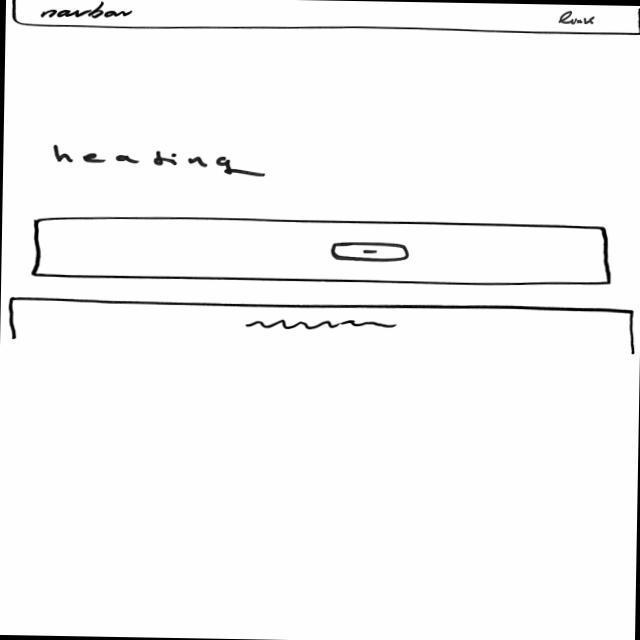container: (30, 214, 613, 289), (11, 1, 640, 39)
icon-button: (331, 242, 410, 264)
label: (53, 143, 270, 180), (42, 2, 137, 22), (557, 11, 597, 28)
text: (245, 318, 398, 336)
